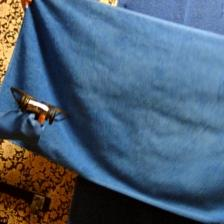drone: (10, 87, 72, 125)
